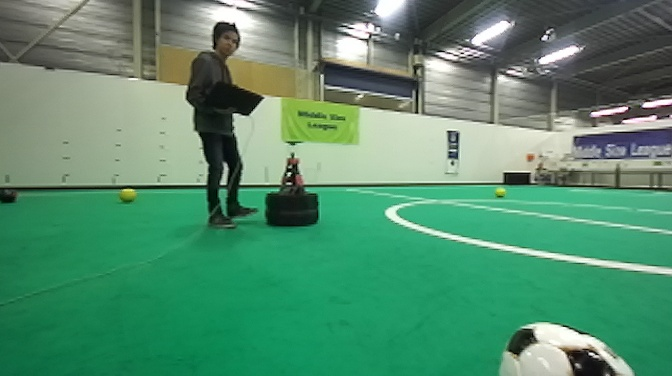ball: (494, 319, 638, 376), (261, 138, 322, 229), (118, 185, 139, 205), (1, 186, 20, 206), (494, 184, 507, 200)
human: (184, 17, 268, 233)
